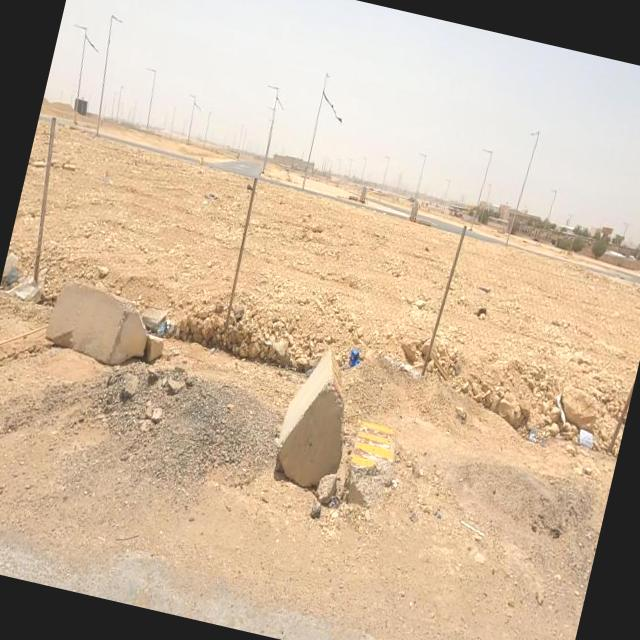debris: (494, 344, 636, 506), (114, 266, 218, 390), (0, 230, 91, 348), (311, 296, 392, 412)
